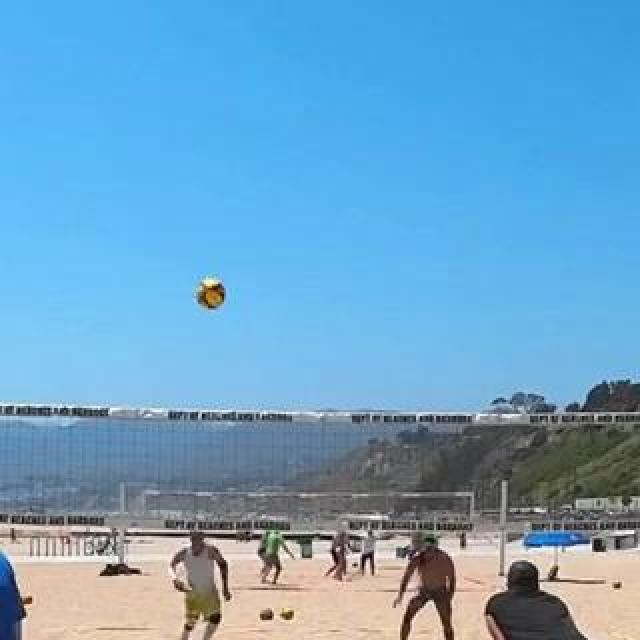volleyball: (196, 281, 226, 311), (259, 607, 273, 621), (281, 607, 295, 619), (612, 580, 622, 590)
